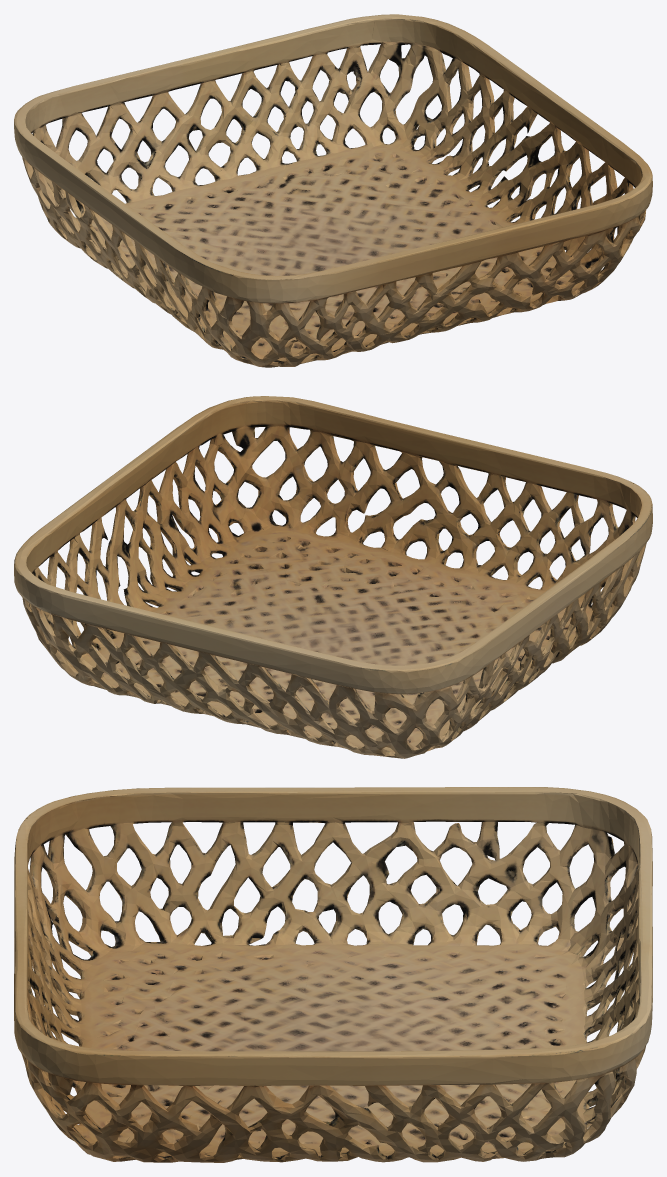
3 renders of one model, top to bottom at view 1: azimuth 30°, elevation 25°; view 2: azimuth 150°, elevation 25°; view 3: azimuth 270°, elevation 25°, orthographic. The views are drawn at different scales.
Visible parts, largest first — view 1: world; view 2: world; view 3: world.
Part boxes in pixels (box(x1,y1,x2,y2)): world: box(14, 14, 652, 367); world: box(14, 396, 652, 758); world: box(14, 787, 652, 1162).
Bounding box in the file's own units: 0.5994 × 0.1457 × 0.5994.
1 material, 1 textured.
